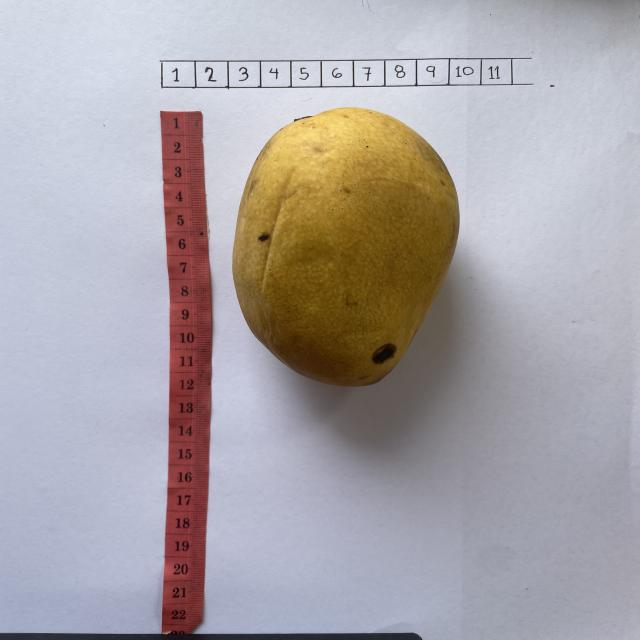Ripe: (231, 107, 460, 390)
